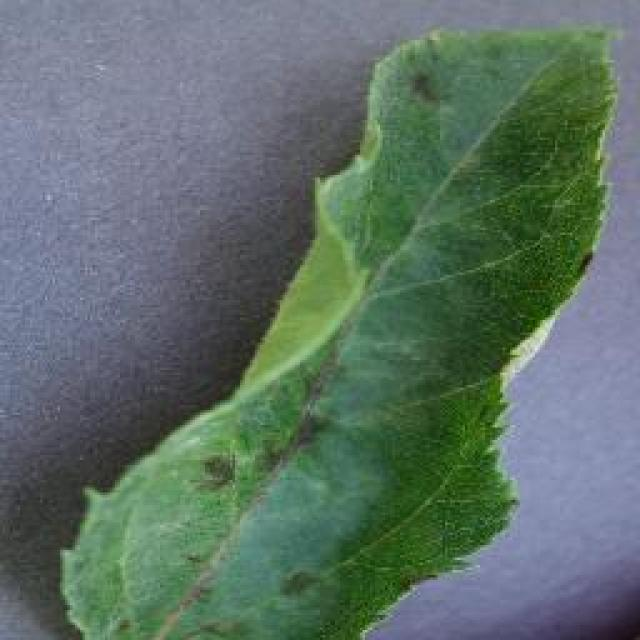apple scab disease: (55, 20, 620, 638)
